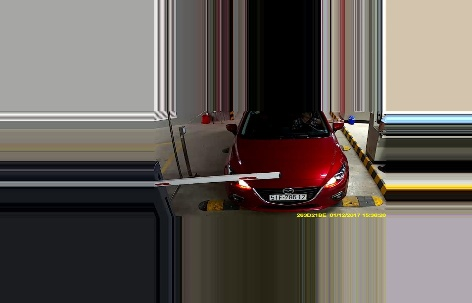plate: (267, 192, 307, 201)
